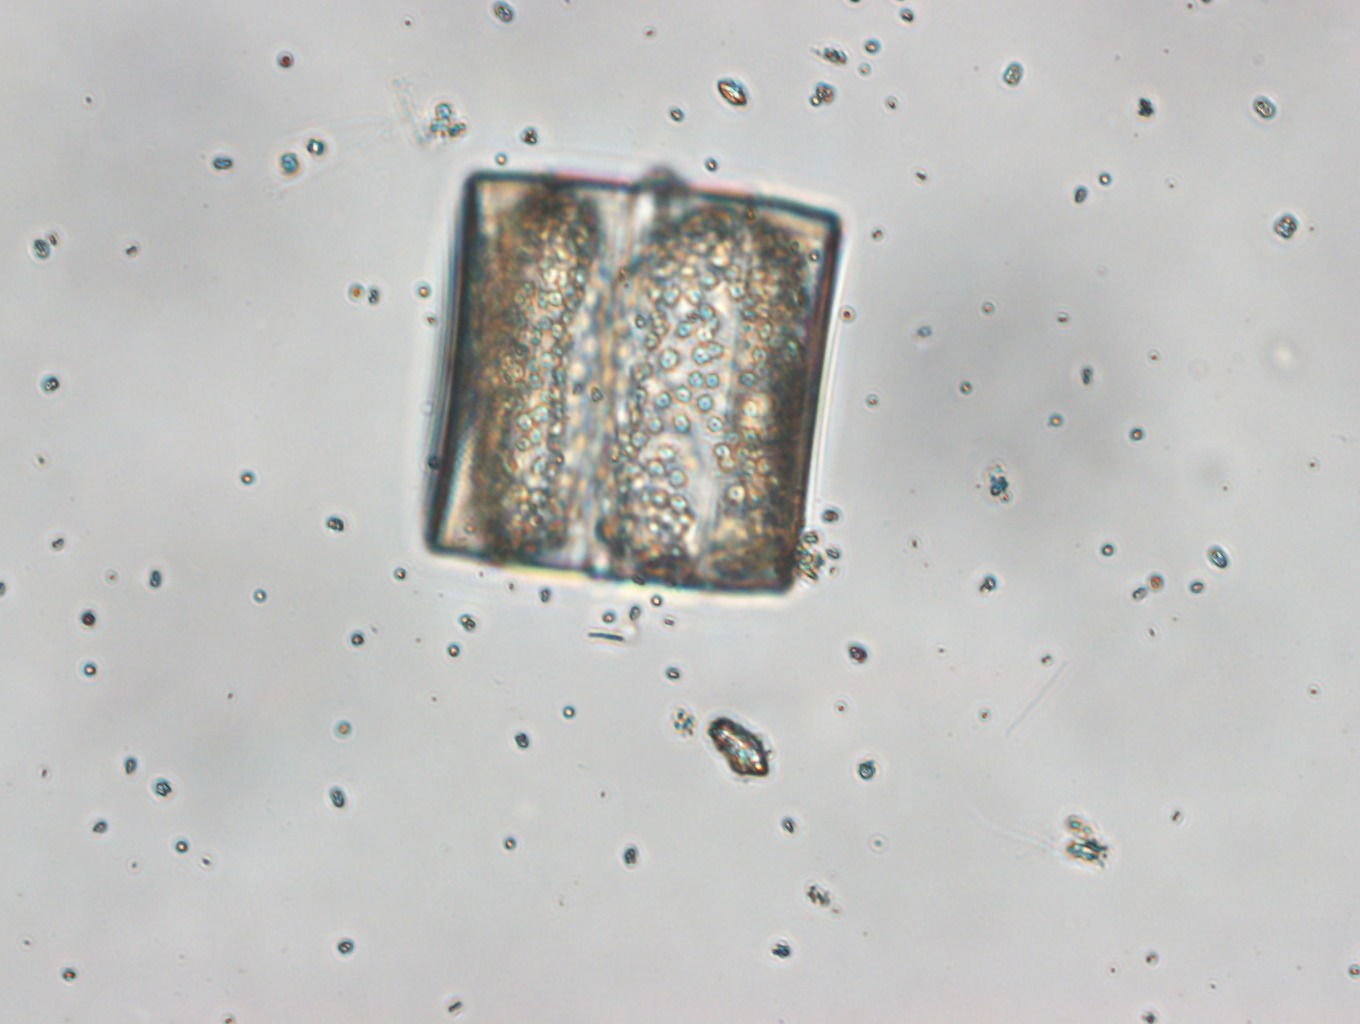coscinodiscus flank: (405, 156, 851, 607)
